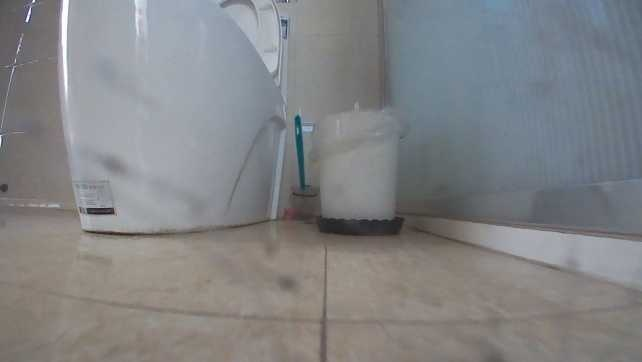toilet: (40, 0, 290, 240)
trash_can: (315, 110, 410, 238)
